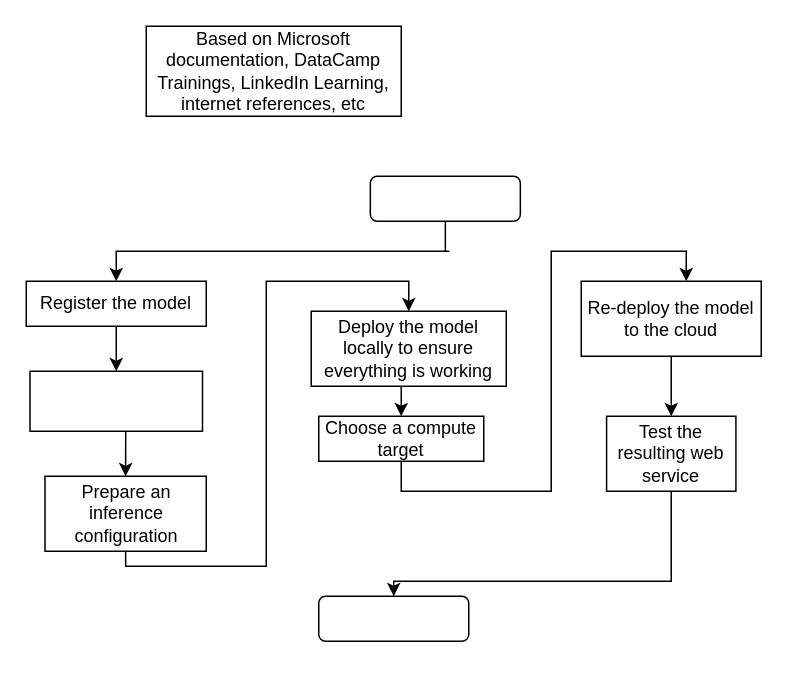
Image size: 788x680. Some labels were removed from this diagram. The centre of each missing label's shape, as x and y in pixels:
"BEGIN" belongs at (x=444, y=198).
"END" belongs at (x=393, y=618).
"Prepare an entry script" belongs at (x=115, y=400).
